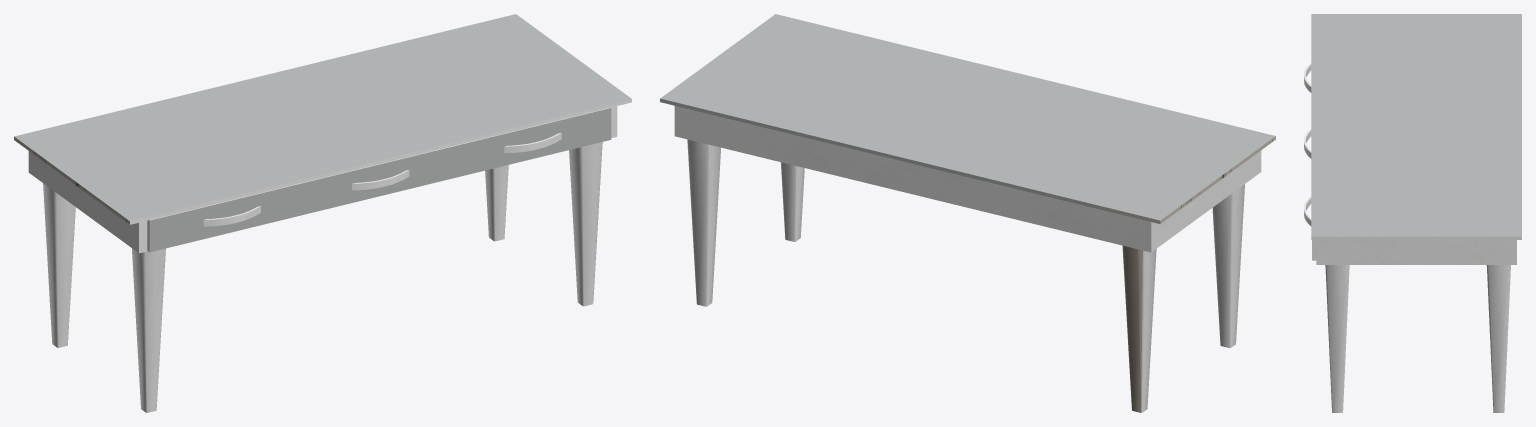
File: MakeupTable.fbx
The picture shows the model from 3 angles, left to right: view 1: azimuth 30°, elevation 25°; view 2: azimuth 150°, elevation 25°; view 3: azimuth 270°, elevation 25°; orthographic projection. The views are drawn at different scales.
Visible parts, largest first — view 1: MakeupTable; view 2: MakeupTable; view 3: MakeupTable.
Part boxes in pixels (bbox=[...]): MakeupTable: bbox=[14, 14, 631, 412]; MakeupTable: bbox=[660, 14, 1275, 412]; MakeupTable: bbox=[1304, 14, 1521, 412].
Size of the model in its own units: 210 by 82.76 by 86.79.
